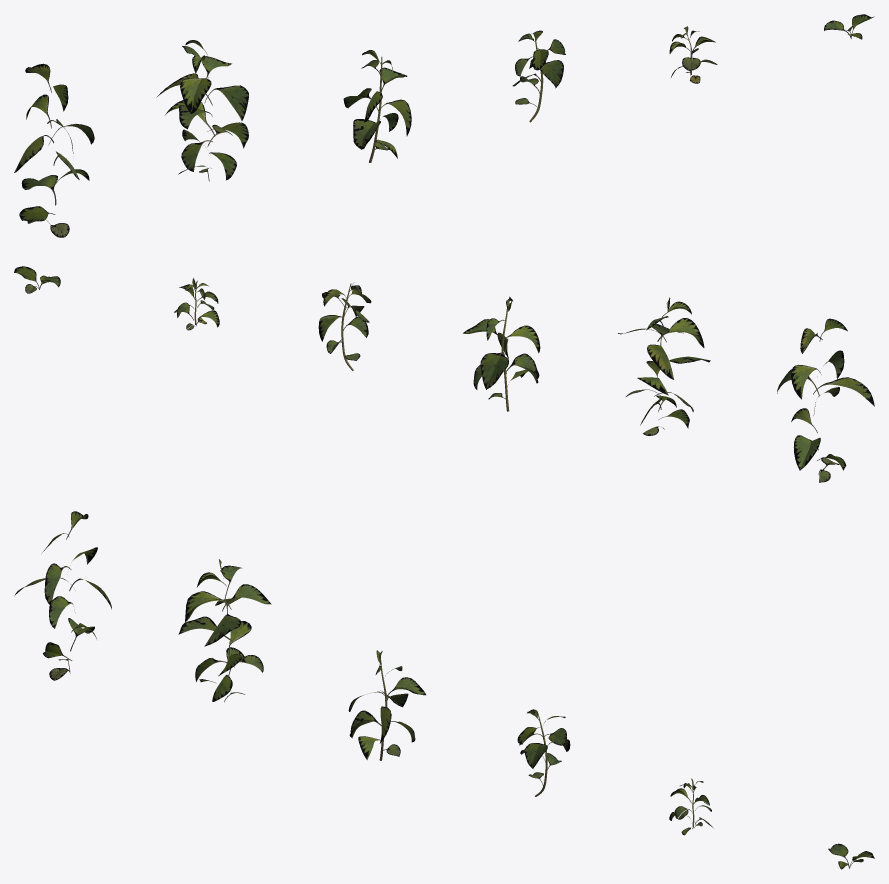
The model's file is nettle_plant_leaf.glb.
3 renders of one model, top to bottom at view 1: azimuth 30°, elevation 25°; view 2: azimuth 150°, elevation 25°; view 3: azimuth 330°, elevation 25°, orthographic. The views are drawn at different scales.
Visible parts, largest first — view 1: nettle_plant_tall_b_LOD0, nettle_plant_tall_a_LOD0, nettle_plant_medium_a_LOD0, nettle_plant_medium_b_LOD0, nettle_plant_small_a_LOD0; view 2: nettle_plant_tall_a_LOD0, nettle_plant_tall_b_LOD0, nettle_plant_medium_a_LOD0, nettle_plant_medium_b_LOD0, nettle_plant_small_a_LOD0, nettle_plant_small_b_LOD0; view 3: nettle_plant_tall_b_LOD0, nettle_plant_tall_a_LOD0, nettle_plant_medium_a_LOD0, nettle_plant_medium_b_LOD0.
Boxes of the visible parts, left/top/right/bottom form: nettle_plant_tall_b_LOD0: left=156, top=40, right=248, bottom=181; nettle_plant_tall_a_LOD0: left=14, top=63, right=94, bottom=237; nettle_plant_medium_a_LOD0: left=343, top=50, right=411, bottom=162; nettle_plant_medium_b_LOD0: left=512, top=30, right=565, bottom=122; nettle_plant_small_a_LOD0: left=669, top=26, right=717, bottom=83; nettle_plant_tall_a_LOD0: left=777, top=318, right=874, bottom=482; nettle_plant_tall_b_LOD0: left=618, top=297, right=710, bottom=435; nettle_plant_medium_a_LOD0: left=463, top=296, right=540, bottom=411; nettle_plant_medium_b_LOD0: left=318, top=283, right=371, bottom=370; nettle_plant_small_a_LOD0: left=174, top=278, right=219, bottom=330; nettle_plant_small_b_LOD0: left=14, top=266, right=60, bottom=293; nettle_plant_tall_b_LOD0: left=178, top=559, right=271, bottom=702; nettle_plant_tall_a_LOD0: left=14, top=511, right=111, bottom=680; nettle_plant_medium_a_LOD0: left=348, top=650, right=425, bottom=760; nettle_plant_medium_b_LOD0: left=517, top=709, right=570, bottom=796.
Size of the model in its own units: 1.09 by 0.2005 by 0.1113.
1 material, 1 textured.
